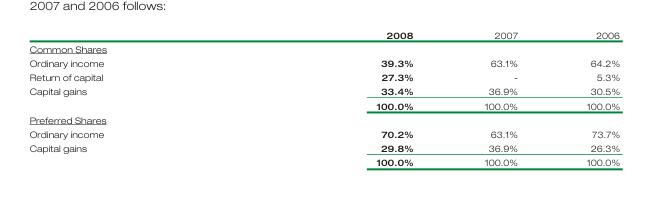table: (28, 28, 619, 167)
table column: (28, 28, 239, 167), (239, 28, 448, 167), (448, 28, 551, 167), (551, 28, 619, 167)
table column header: (28, 28, 619, 41)
table projected row header: (28, 41, 619, 55), (28, 112, 619, 126)
table row: (28, 83, 619, 98), (28, 41, 619, 55), (28, 55, 619, 69), (28, 69, 619, 83), (28, 98, 619, 112), (28, 112, 619, 126), (28, 126, 619, 140), (28, 140, 619, 154), (28, 28, 619, 41), (28, 154, 619, 167)
